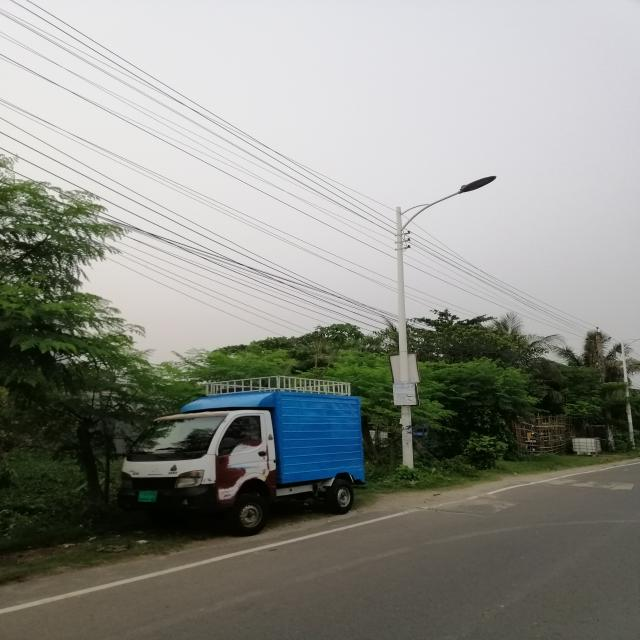Pick-up-van: (114, 373, 371, 537)
